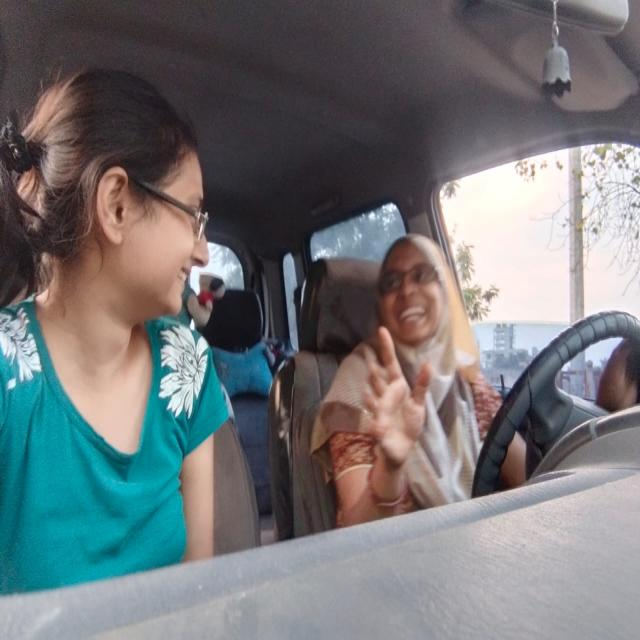LeftRight: (377, 228, 462, 365)
person: (26, 68, 215, 362)
talking: (398, 298, 428, 334), (172, 257, 192, 295)
